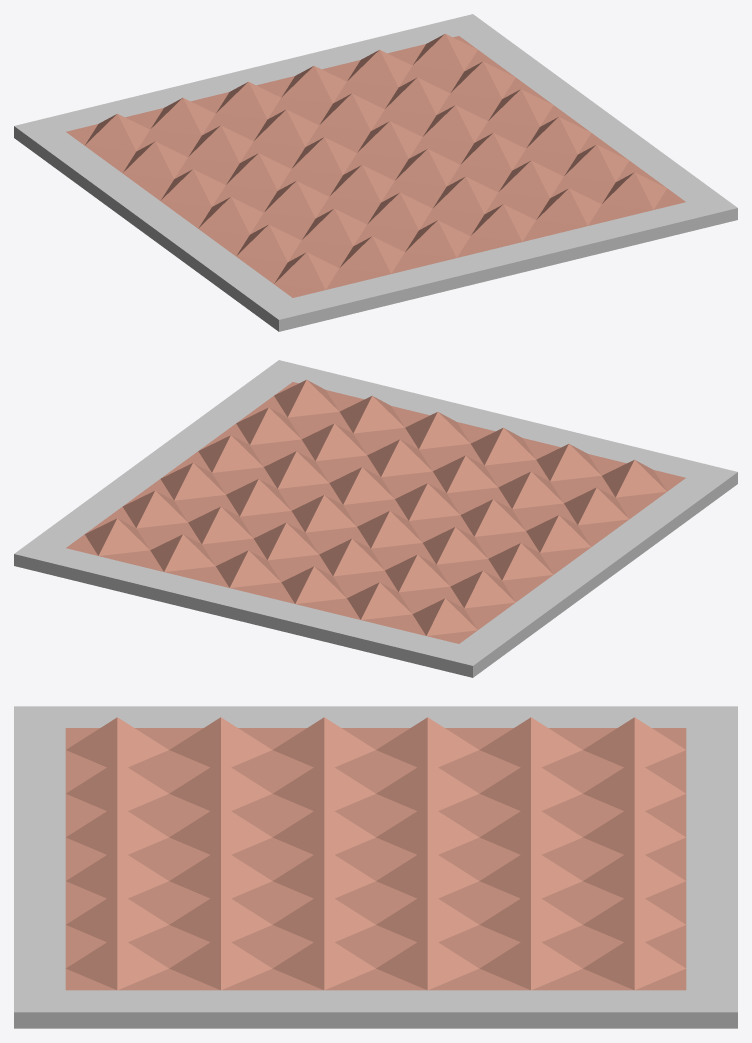
File: Spikes.fbx
3 views of the same model, one above another, from view 1: azimuth 30°, elevation 25°; view 2: azimuth 150°, elevation 25°; view 3: azimuth 270°, elevation 25° (orthographic). The views are drawn at different scales.
Parts seen in each view (by area): view 1: Grid; view 2: Grid; view 3: Grid.
Part boxes in pixels (<box>): Grid: <box>14,14,737,331</box>; Grid: <box>14,360,737,677</box>; Grid: <box>14,706,737,1028</box>.
Bounding box in the file's own units: 800 × 60 × 800.
